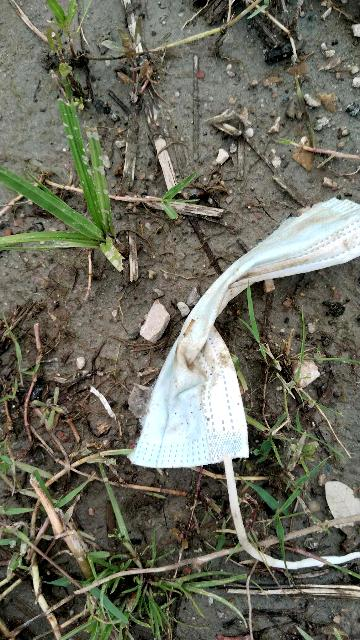mask: (92, 155, 360, 494)
